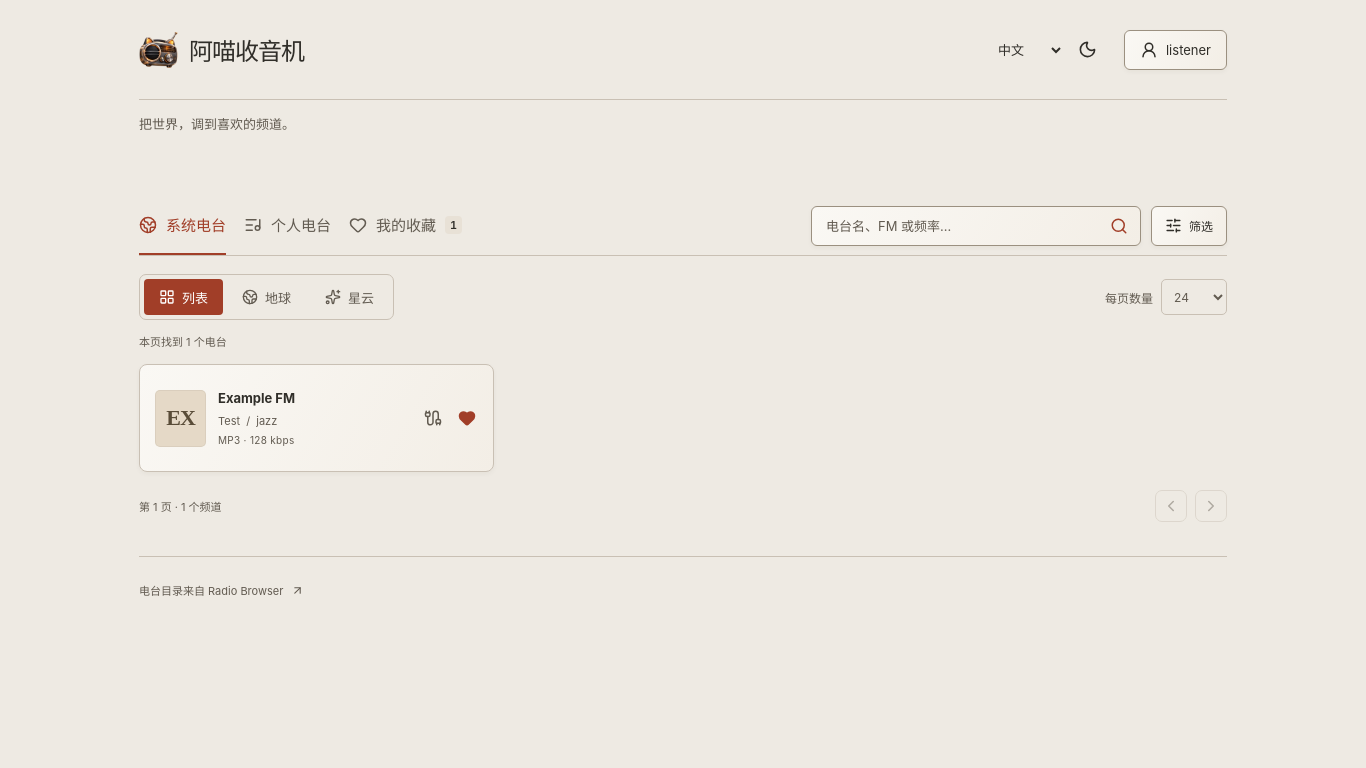
Test: does not replay an expired-session write into a different account
Click the button named "取消收藏 Example FM".
click(467, 418)  # box [449,396,485,440]
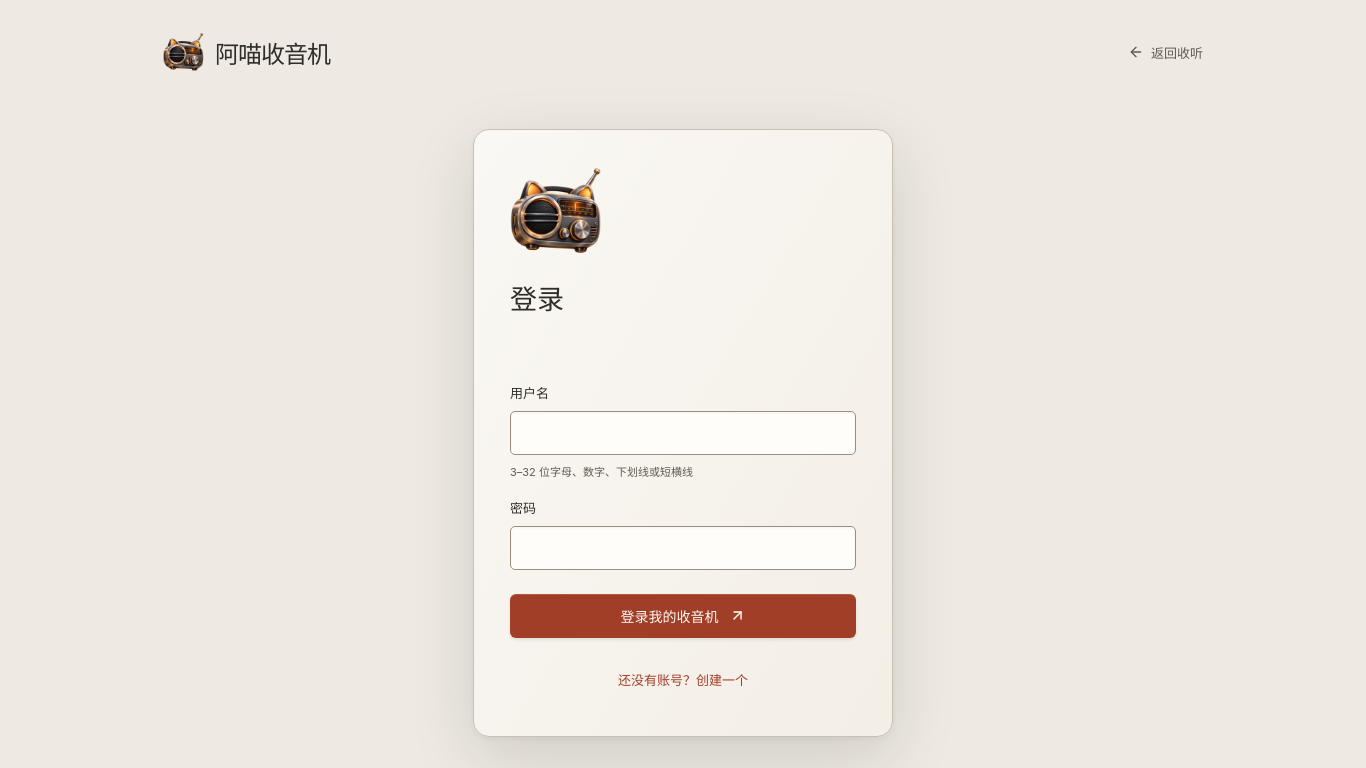
Expected: the heading "登录" is shown, [510,283,564,316]
Type "listener" into the field labelled "用户名".
click(683, 433); type("listener")  # box [510,411,856,455]
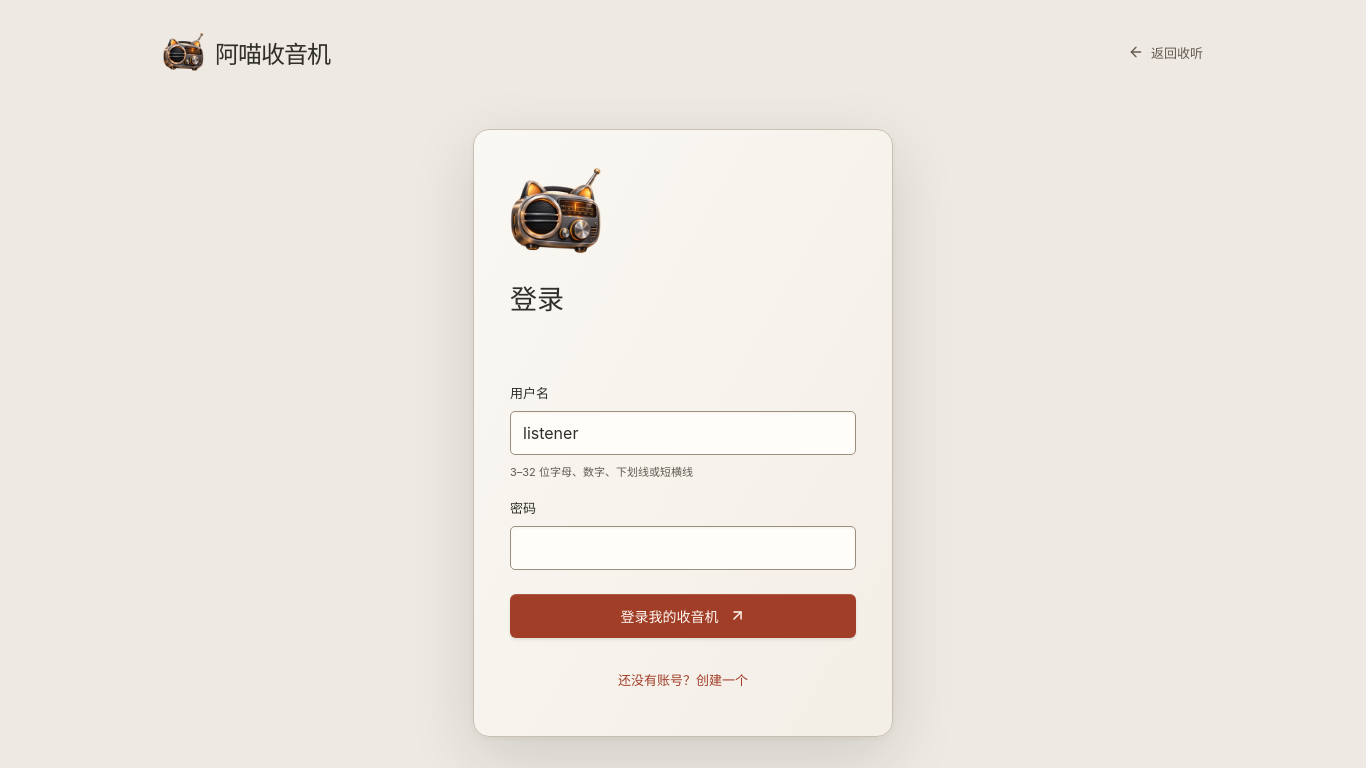
Type "safe-test-password" into the password field labelled "密码".
click(683, 548); type("safe-test-password")  # box [510,526,856,570]
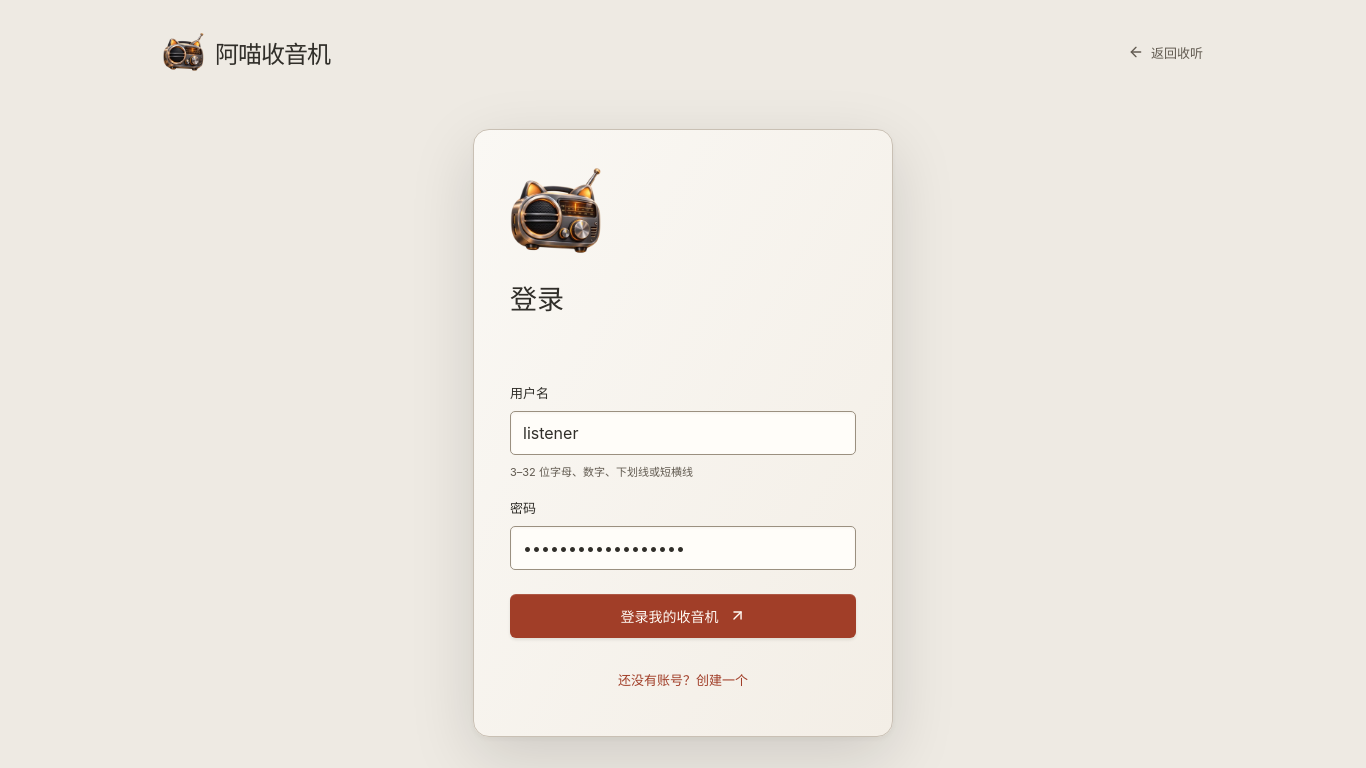
Click the button "登录我的收音机".
click(683, 616)  # box [510,594,856,638]
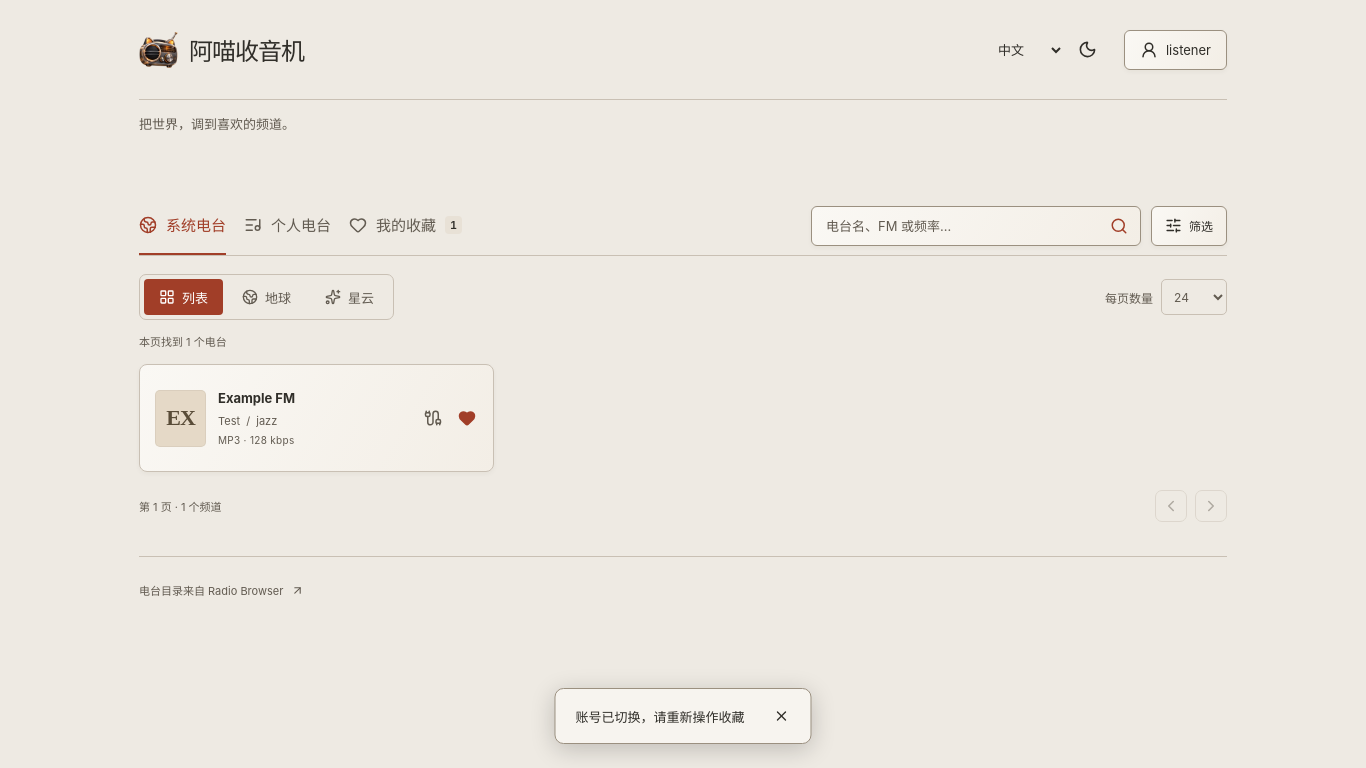
Expected: the element named "收听首页" is shown, [139,100,1227,522]
Expected: the text "账号已切换，请重新操作收藏" is shown, [554,688,812,744]
